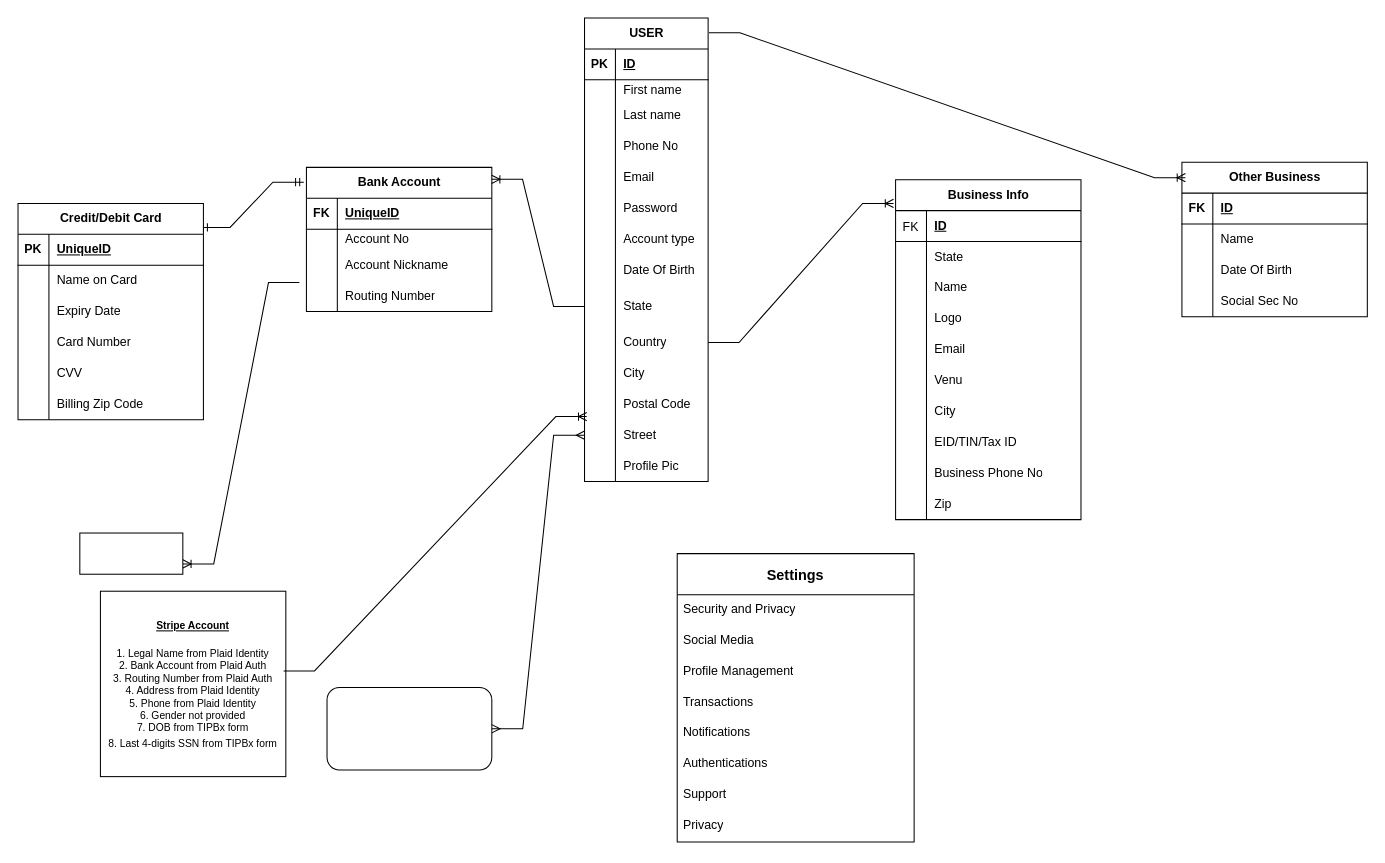
The diagram is 1385 pixels wide and 863 high, and some of its shapes have lost their labels. Each missing label, with the centre of its shape:
Account Types Joint Saving Joint Checking My Savings Primary: point (409, 728)
PAYMENT METHODS: point (131, 553)
